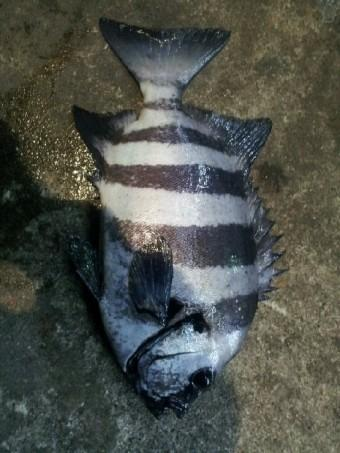fish: (66, 18, 291, 426)
